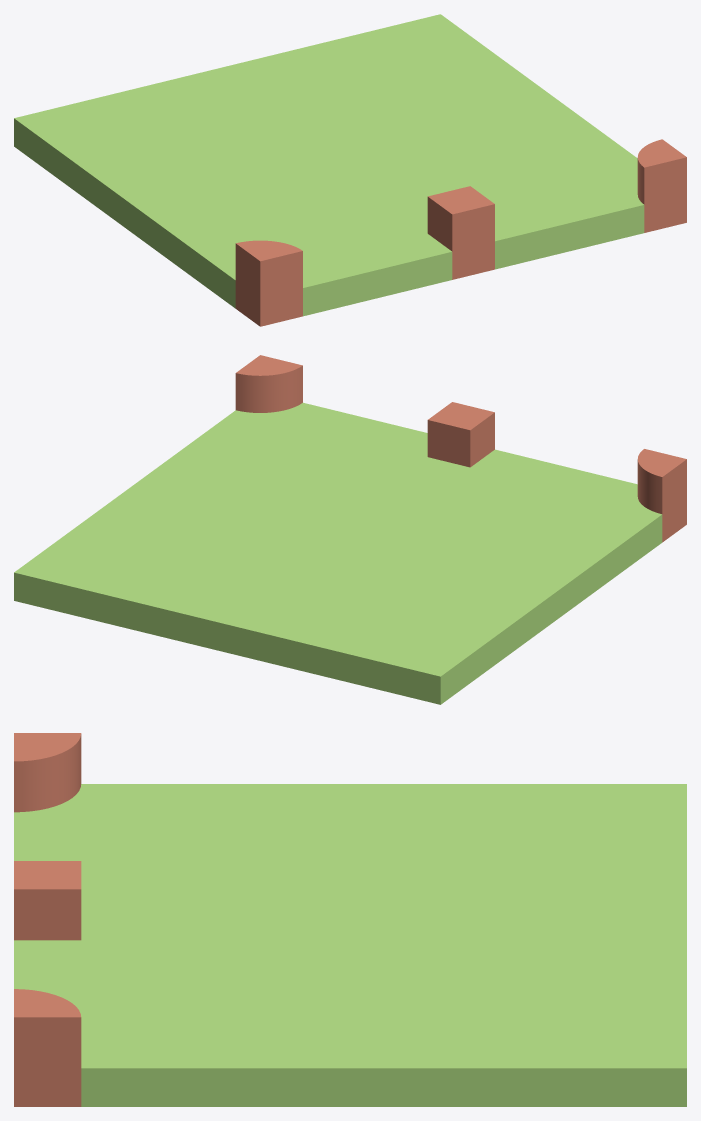
The model's file is Split_walls_to_open_01.glb.
3 renders of one model, top to bottom at view 1: azimuth 30°, elevation 25°; view 2: azimuth 150°, elevation 25°; view 3: azimuth 270°, elevation 25°, orthographic. The views are drawn at different scales.
Parts seen in each view (by area): view 1: Mesh1 Split_walls_to_open Model; view 2: Mesh1 Split_walls_to_open Model; view 3: Mesh1 Split_walls_to_open Model.
Part boxes in pixels (left/top/right/bottom): Mesh1 Split_walls_to_open Model: left=14, top=14, right=686, bottom=326; Mesh1 Split_walls_to_open Model: left=14, top=355, right=686, bottom=704; Mesh1 Split_walls_to_open Model: left=14, top=733, right=686, bottom=1106.
Size of the model in its own units: 3 by 0.44 by 3.
